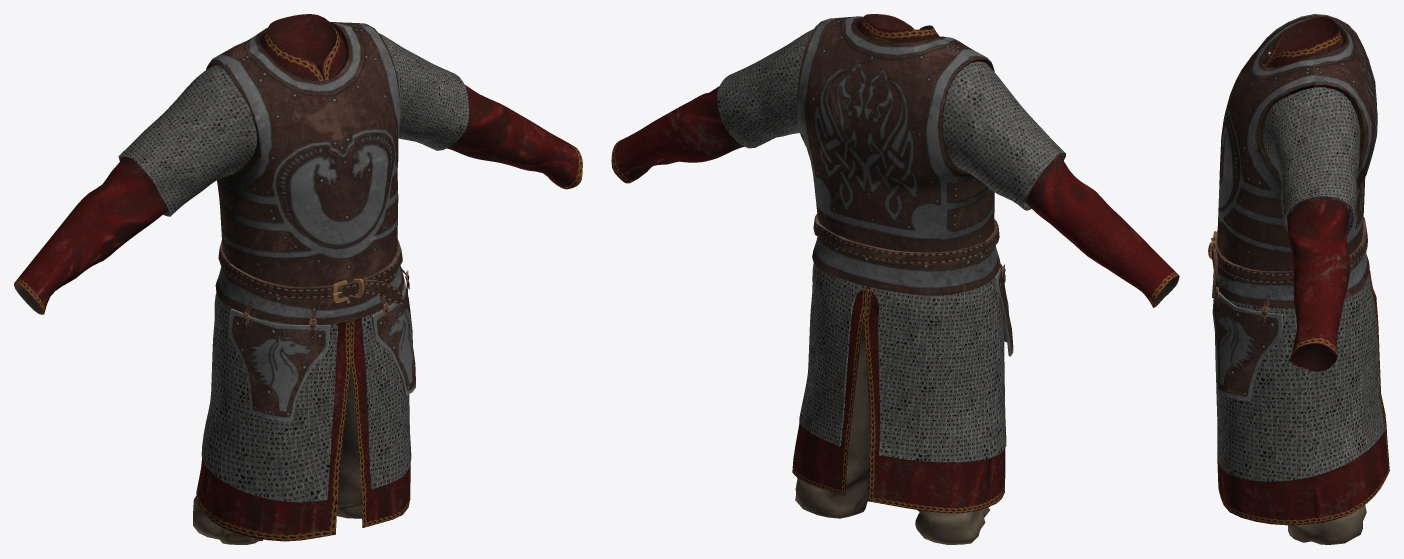
Rendered from cts_rohan_armor_captain1.fbx.
3 renders of one model, left to right at view 1: azimuth 30°, elevation 25°; view 2: azimuth 150°, elevation 25°; view 3: azimuth 270°, elevation 25°, orthographic. The views are drawn at different scales.
Parts seen in each view (by area): view 1: cts_rohan_armor_captain1; view 2: cts_rohan_armor_captain1; view 3: cts_rohan_armor_captain1.
Boxes of the visible parts, x1,y1,x2,y2 form: cts_rohan_armor_captain1: (14,14,582,544); cts_rohan_armor_captain1: (611,14,1179,544); cts_rohan_armor_captain1: (1208,14,1389,544).
Bounding box in the file's own units: 1.38 × 0.4033 × 1.17.
Materials: 1 (1 with a texture image).
